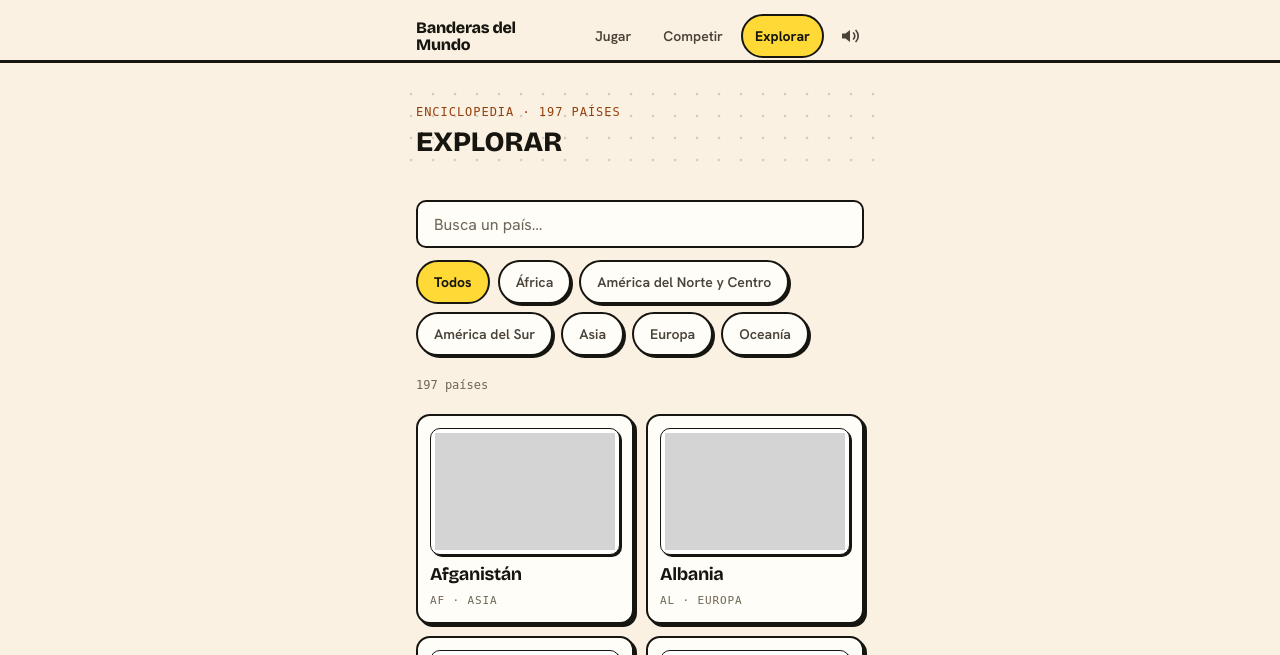
Scenario: App (smoke) › Explorar lista países y filtra por búsqueda
Check: the heading "Explorar" is shown, box [416,125,562,159]
In the search field named "Buscar país": (640, 224) [416,200,864,248], type "peru"
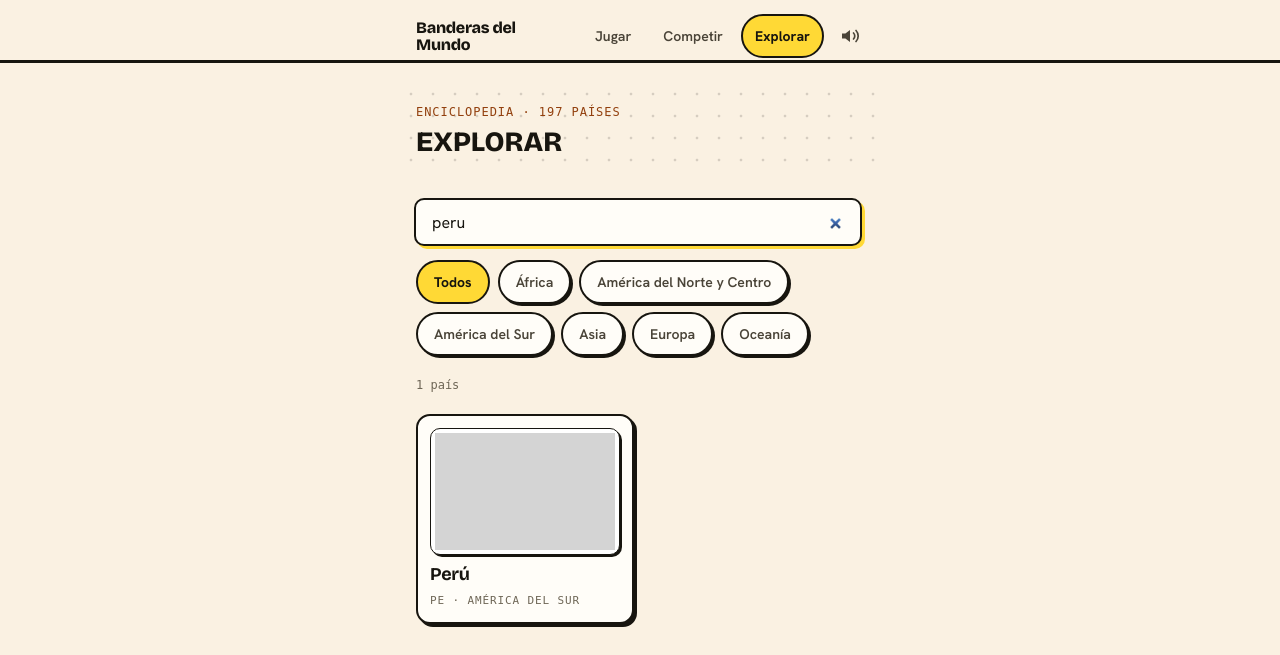
Check: the text "Perú" is shown, box [430,563,470,585]
Check: the text "1 país" is shown, box [416,378,459,392]
